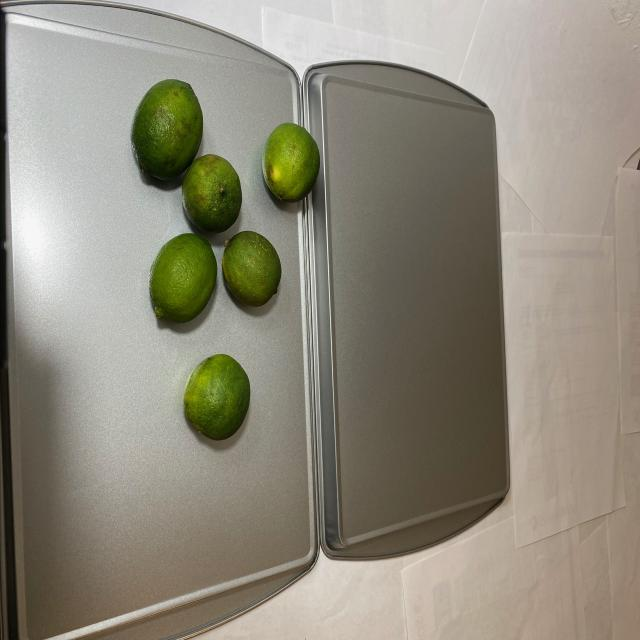lemon: (126, 72, 320, 446)
